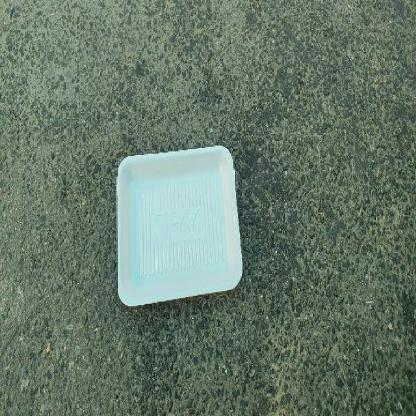Glass Cup: (115, 145, 243, 306), (117, 146, 242, 306)
